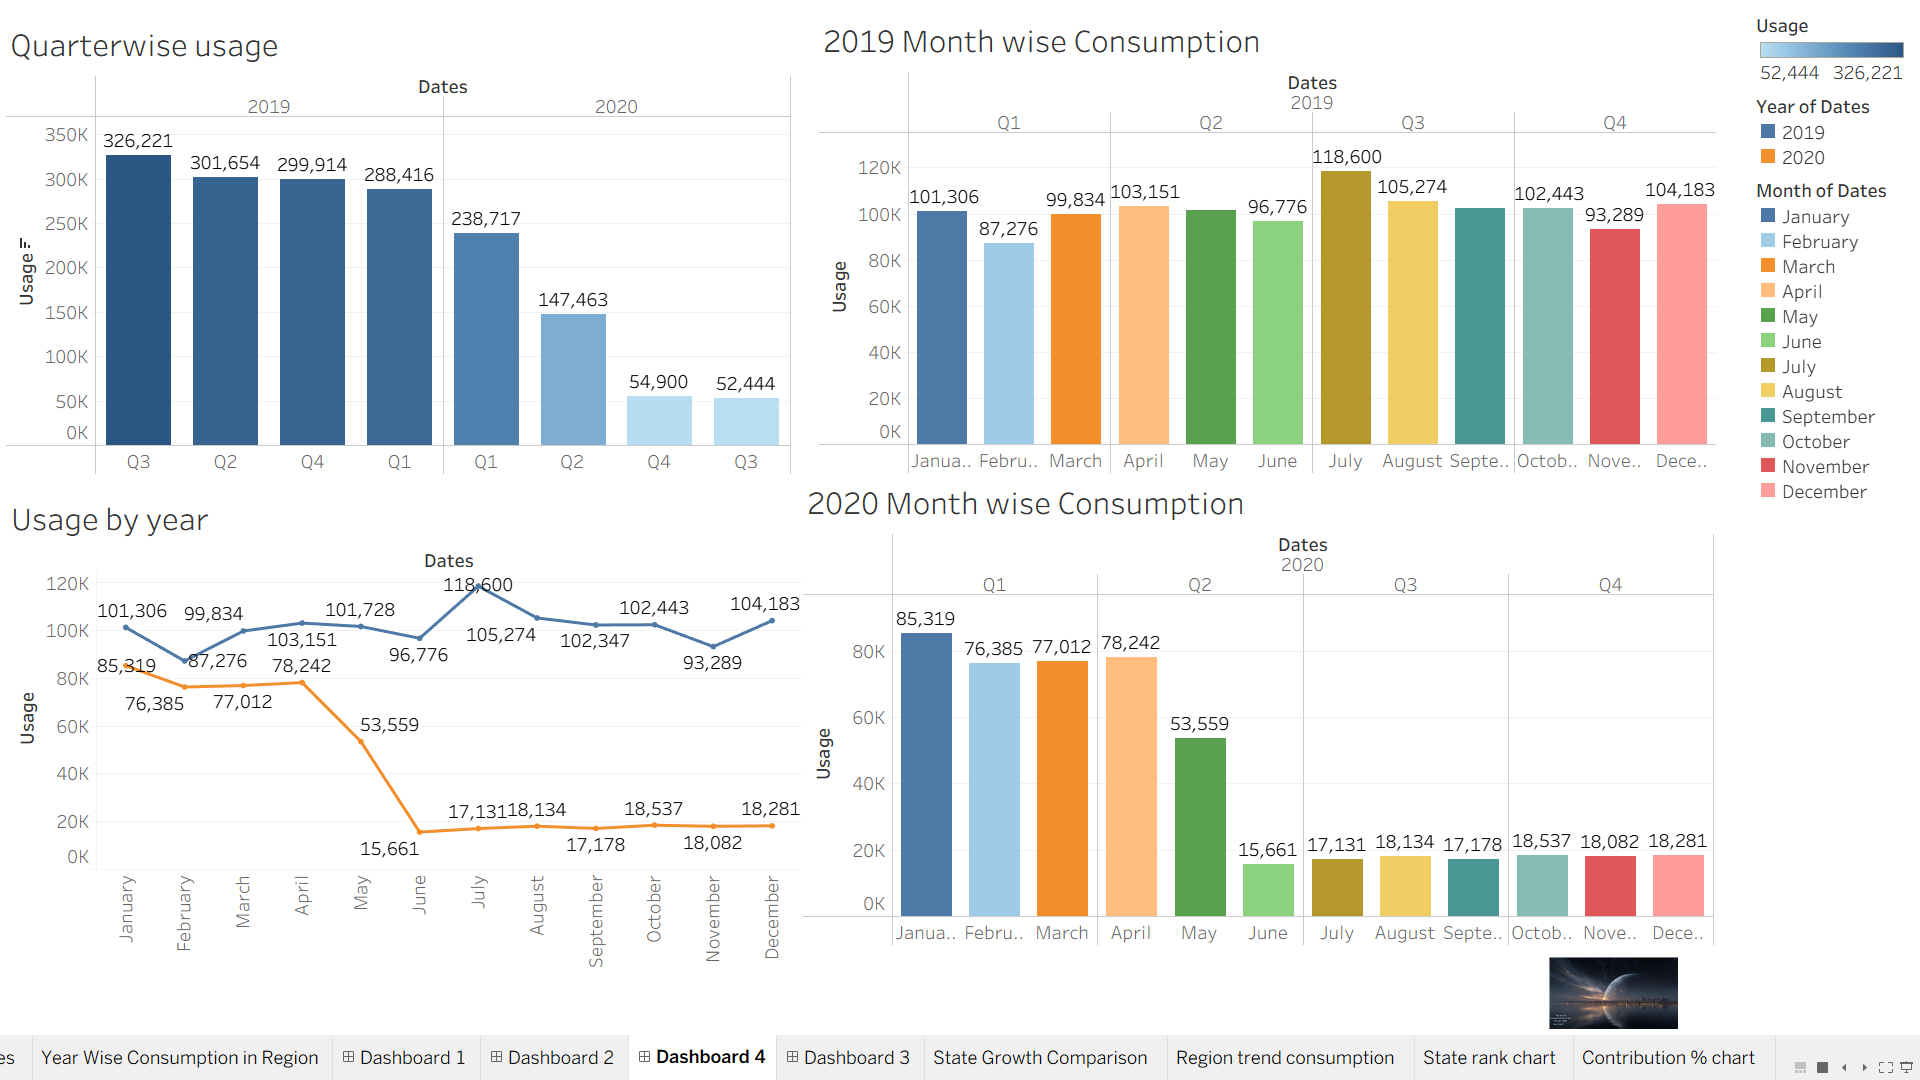

This screenshot's page, from the dashboard's own definition file:
{"tool":"tableau","page":{"name":"Dashboard 4","canvas":[1000,1000],"units":"permille","ordinal":3},"visuals":[{"type":"legend","title":"Quarterwise usage","param":"[federated.0kxg41e0jhsp7912dl5lz15mm04g].[sum:Usage:qk]","box":[895.3,9.9,99.8,100.5]},{"type":"worksheet","title":"2019 Month wise Consumption","mark":"Bar","rows":["Usage"],"cols":["Dates","Dates","Dates"],"box":[426.4,14.8,467.6,443.7]},{"type":"worksheet","title":"Quarterwise usage","mark":"Bar","rows":["Usage"],"cols":["Dates","Dates"],"box":[3.1,18.8,409,441]},{"type":"legend","title":"Usage by year","param":"[federated.0kxg41e0jhsp7912dl5lz15mm04g].[yr:Dates:ok]","box":[895.3,110.4,99.8,104.2]},{"type":"legend","title":"2019 Month wise Consumption","param":"[federated.0kxg41e0jhsp7912dl5lz15mm04g].[mn:Dates:ok]","box":[895.3,214.7,99.8,414.4]},{"type":"worksheet","title":"2020 Month wise Consumption","mark":"Bar","rows":["Usage"],"cols":["Dates","Dates","Dates"],"box":[418.3,461.1,474.4,453.1]},{"type":"worksheet","title":"Usage by year","mark":"Automatic","rows":["Usage"],"cols":["Dates"],"box":[3.7,475.9,413.3,459.8]},{"type":"dashboard-object","box":[789.3,924.9,102.2,69.7]}]}

Visuals, with their boxes on the dashboard's canvas, which has no fixed pixel size, in thousandths of its width and height (x1, y1, x2, y2). These are canvas units, not pixel positions in the 1920x1080 screenshot, which may show the page scaled, cropped or inside an application window:
"Quarterwise usage" legend: {"left": 895, "top": 10, "right": 995, "bottom": 110}
"2019 Month wise Consumption" worksheet (Bar marks): {"left": 426, "top": 15, "right": 894, "bottom": 458}
"Quarterwise usage" worksheet (Bar marks): {"left": 3, "top": 19, "right": 412, "bottom": 460}
"Usage by year" legend: {"left": 895, "top": 110, "right": 995, "bottom": 215}
"2019 Month wise Consumption" legend: {"left": 895, "top": 215, "right": 995, "bottom": 629}
"2020 Month wise Consumption" worksheet (Bar marks): {"left": 418, "top": 461, "right": 893, "bottom": 914}
"Usage by year" worksheet: {"left": 4, "top": 476, "right": 417, "bottom": 936}
dashboard-object: {"left": 789, "top": 925, "right": 892, "bottom": 995}
